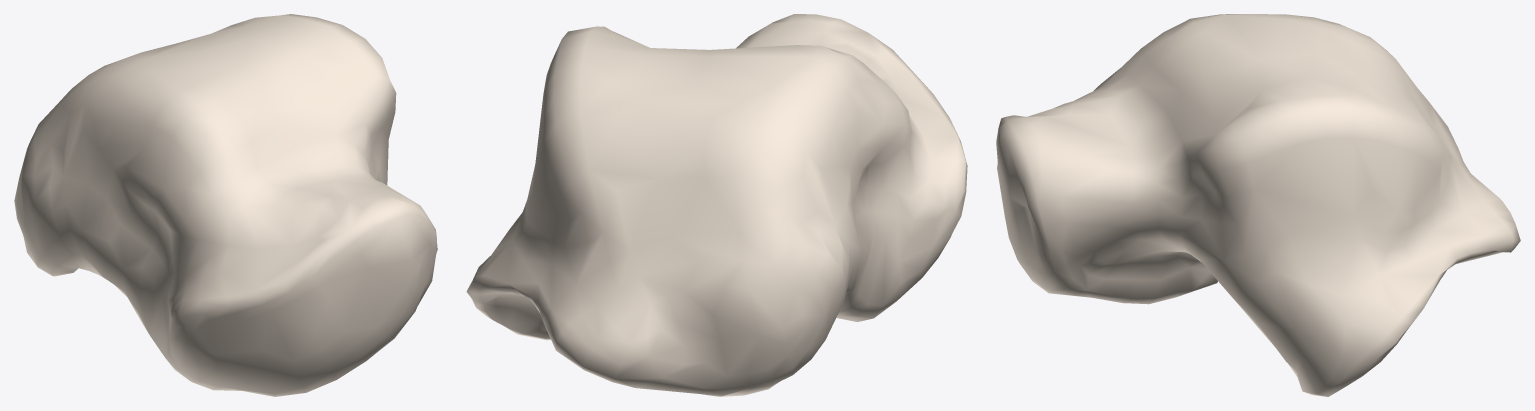
File: left_talus.glb
3 renders of one model, left to right at view 1: azimuth 30°, elevation 25°; view 2: azimuth 150°, elevation 25°; view 3: azimuth 270°, elevation 25°, orthographic. The views are drawn at different scales.
Visible parts, largest first — view 1: Talus.r; view 2: Talus.r; view 3: Talus.r.
Boxes of the visible parts, left/top/right/bottom form: Talus.r: left=14, top=14, right=437, bottom=396; Talus.r: left=466, top=14, right=967, bottom=396; Talus.r: left=996, top=14, right=1520, bottom=396.
Size of the model in its own units: 0.0422 by 0.0344 by 0.0582.
